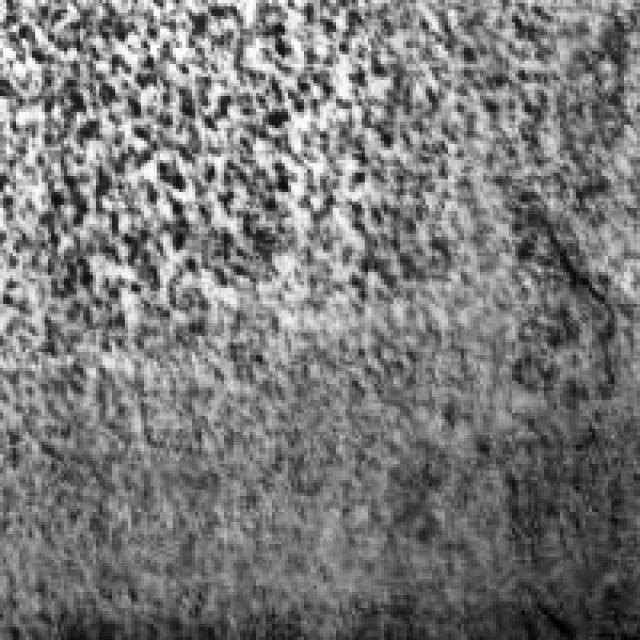Rolled_in_Scale: (0, 0, 627, 582)
